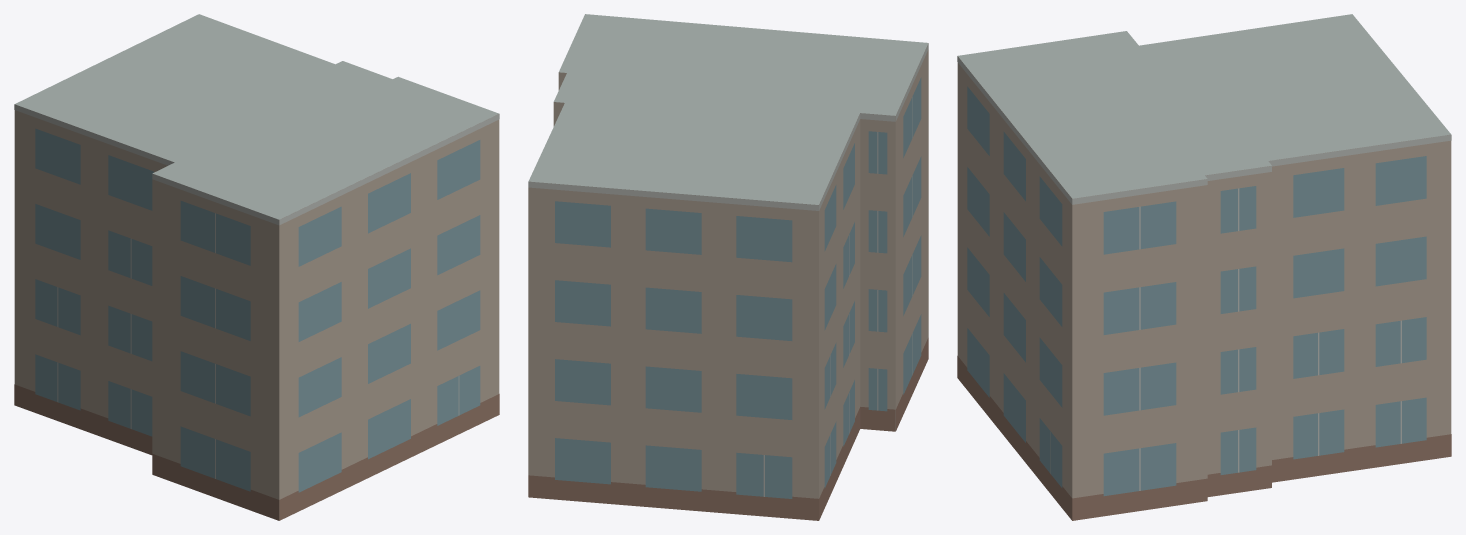
File: survey-upis-32708866.glb
3 views of the same model, side by side, from view 1: azimuth 30°, elevation 25°; view 2: azimuth 150°, elevation 25°; view 3: azimuth 270°, elevation 25° (orthographic). The views are drawn at different scales.
Visible parts, largest first — view 1: survey-upis-32708866.tmp; view 2: survey-upis-32708866.tmp; view 3: survey-upis-32708866.tmp.
Boxes of the visible parts, x1,y1,x2,y2 form: survey-upis-32708866.tmp: (14, 14, 499, 520); survey-upis-32708866.tmp: (528, 14, 928, 520); survey-upis-32708866.tmp: (957, 14, 1451, 520).
Bounding box in the file's own units: 15.88 × 12.9 × 17.94.
